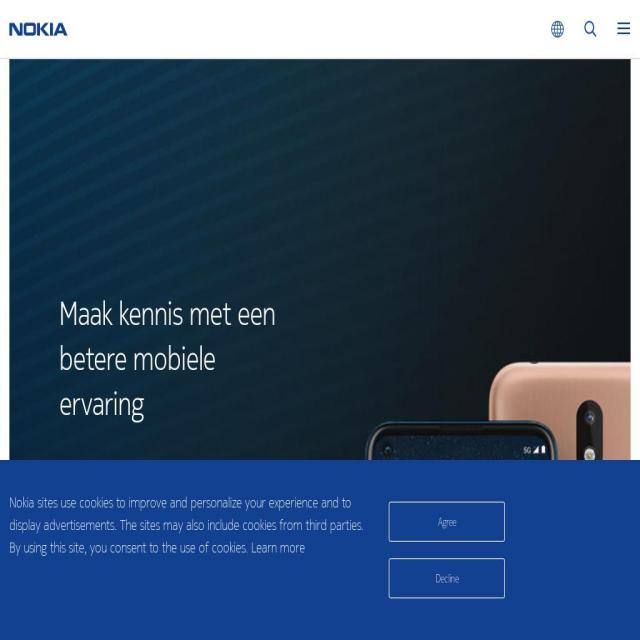button: (59, 528, 178, 574), (388, 502, 506, 542), (388, 558, 506, 598), (10, 0, 68, 58), (584, 20, 598, 38), (551, 20, 564, 39), (618, 23, 630, 35)
heading: (58, 292, 290, 428)
image: (10, 20, 68, 38), (584, 20, 598, 38), (551, 20, 564, 38), (618, 22, 630, 34)
link: (251, 538, 305, 561)
text: (9, 493, 364, 561), (108, 0, 488, 58)
